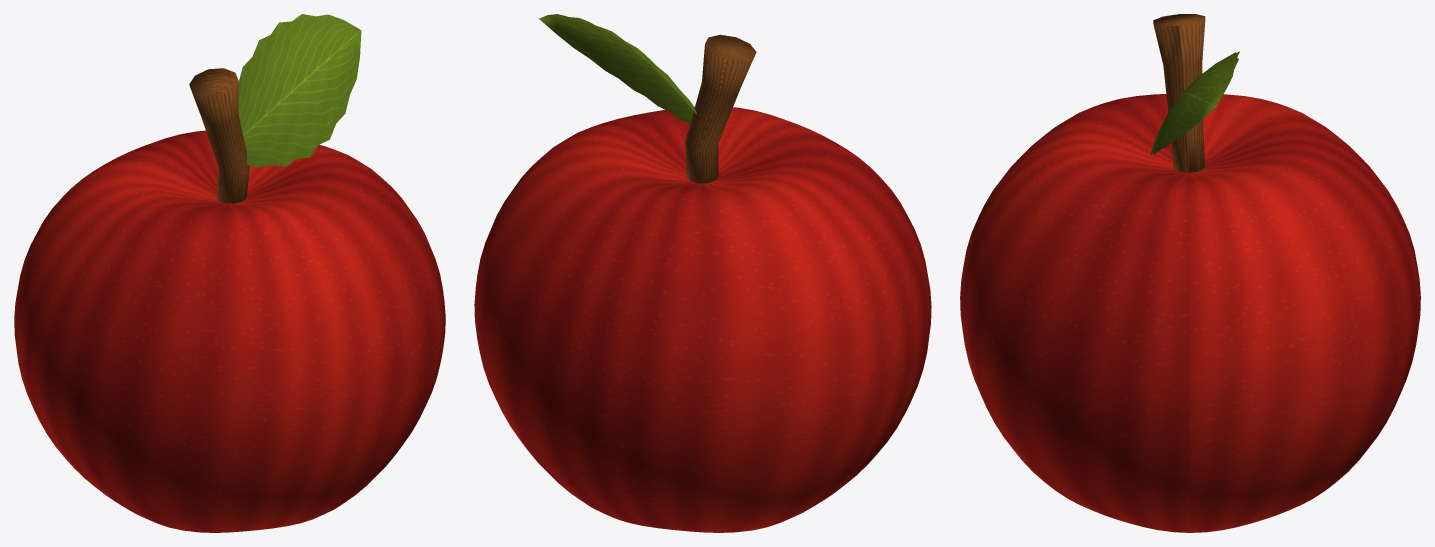
The model's file is apple.glb.
3 renders of one model, left to right at view 1: azimuth 30°, elevation 25°; view 2: azimuth 150°, elevation 25°; view 3: azimuth 270°, elevation 25°, orthographic. The views are drawn at different scales.
Visible parts, largest first — view 1: apple-mesh; view 2: apple-mesh; view 3: apple-mesh.
Boxes of the visible parts, left/top/right/bottom form: apple-mesh: left=14, top=14, right=445, bottom=532; apple-mesh: left=474, top=14, right=931, bottom=532; apple-mesh: left=960, top=14, right=1420, bottom=532.
Bounding box in the file's own units: 0.0551 × 0.0619 × 0.0538.
Materials: 3 (3 with a texture image).
